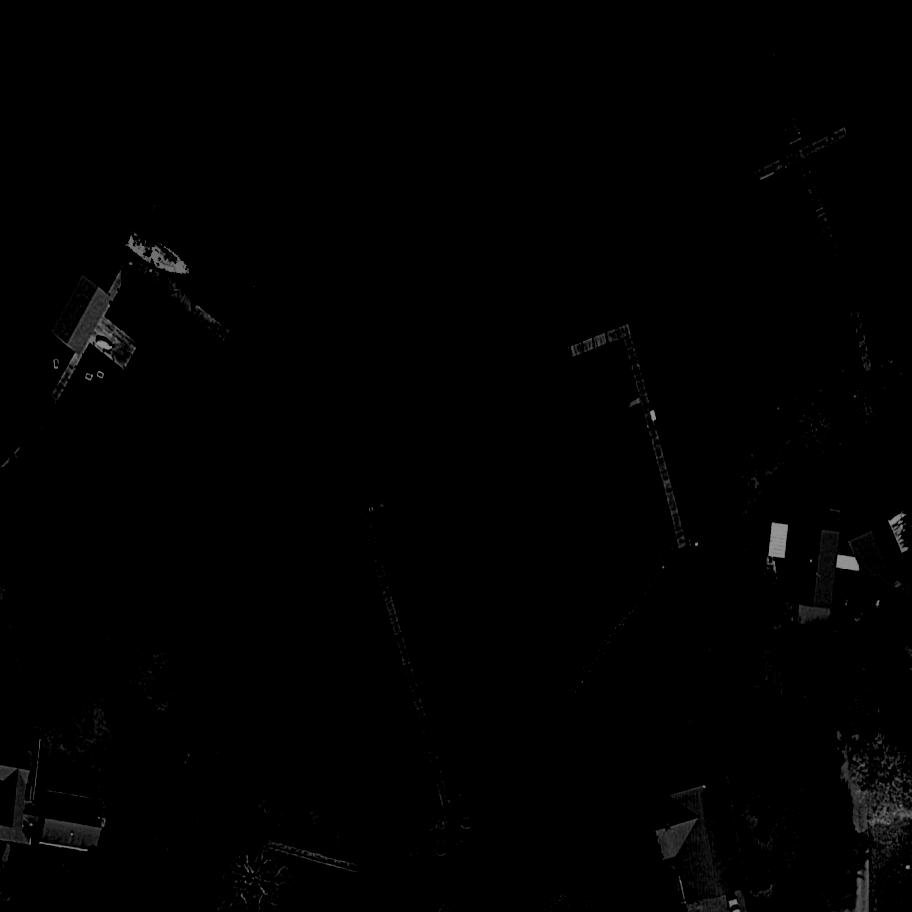ship: (117, 222, 207, 289)
small-vehicle: (868, 664, 882, 694)
